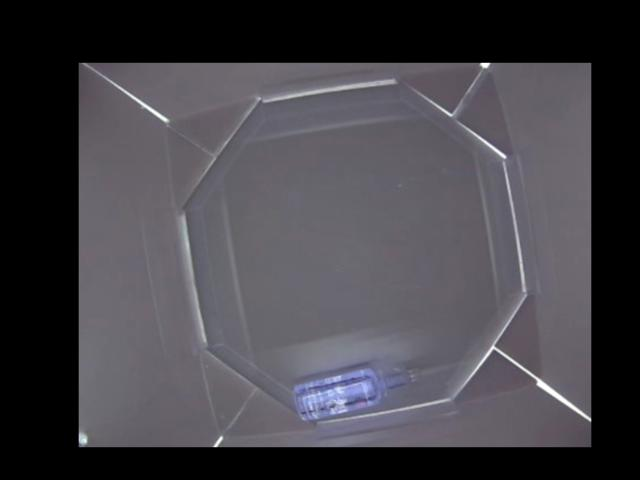Bottle: (290, 358, 422, 420)
